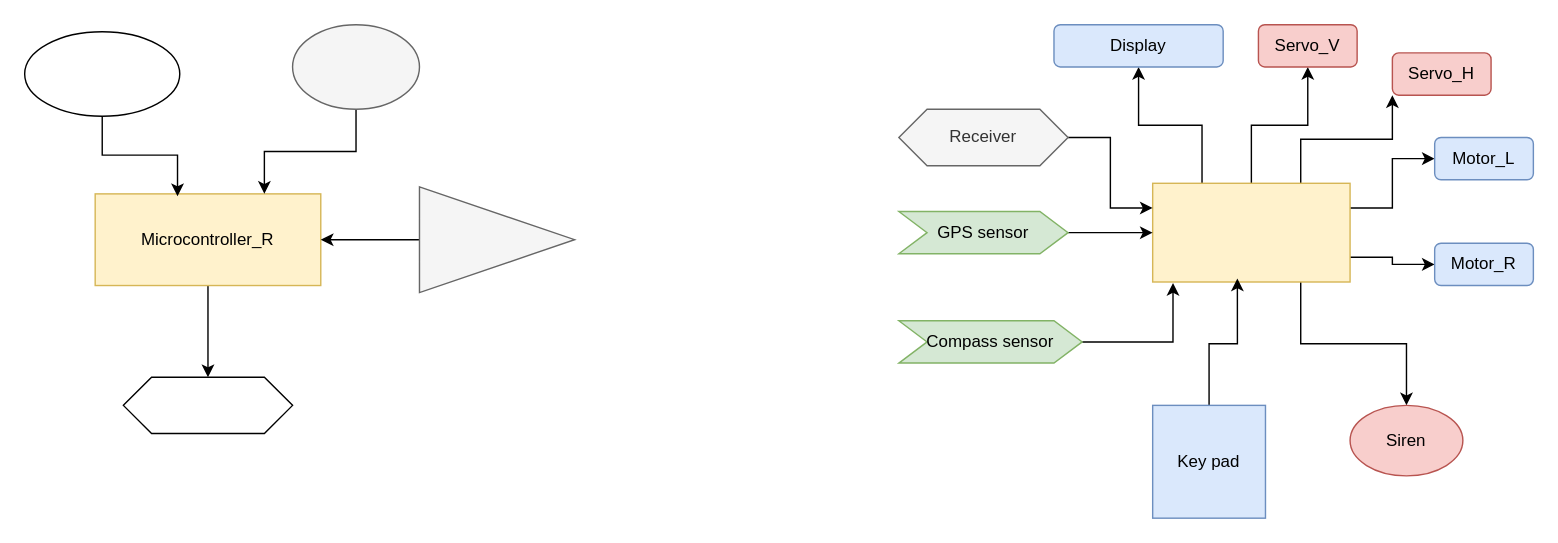
Some shapes in this 1558 by 543 pixel diagram are drawn without their labels. Each missing label, with the centre of its shape:
Joystick_Host: (x=355, y=66)
Joystick_Servo: (x=101, y=73)
Microcontroller_H: (x=1250, y=232)
Siren switch: (x=496, y=239)
Transmeter: (x=207, y=405)
